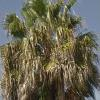Palm tree: (3, 1, 94, 89)
